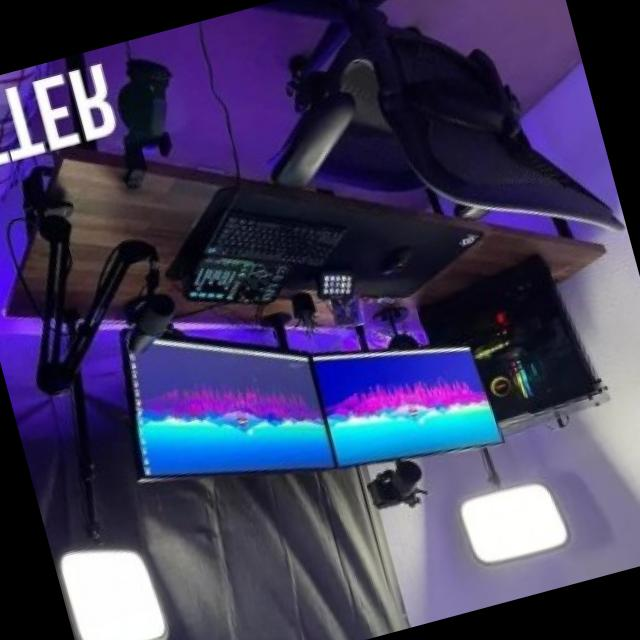Computer: (409, 232, 619, 456)
Monitor: (94, 293, 342, 525), (309, 306, 506, 484)
